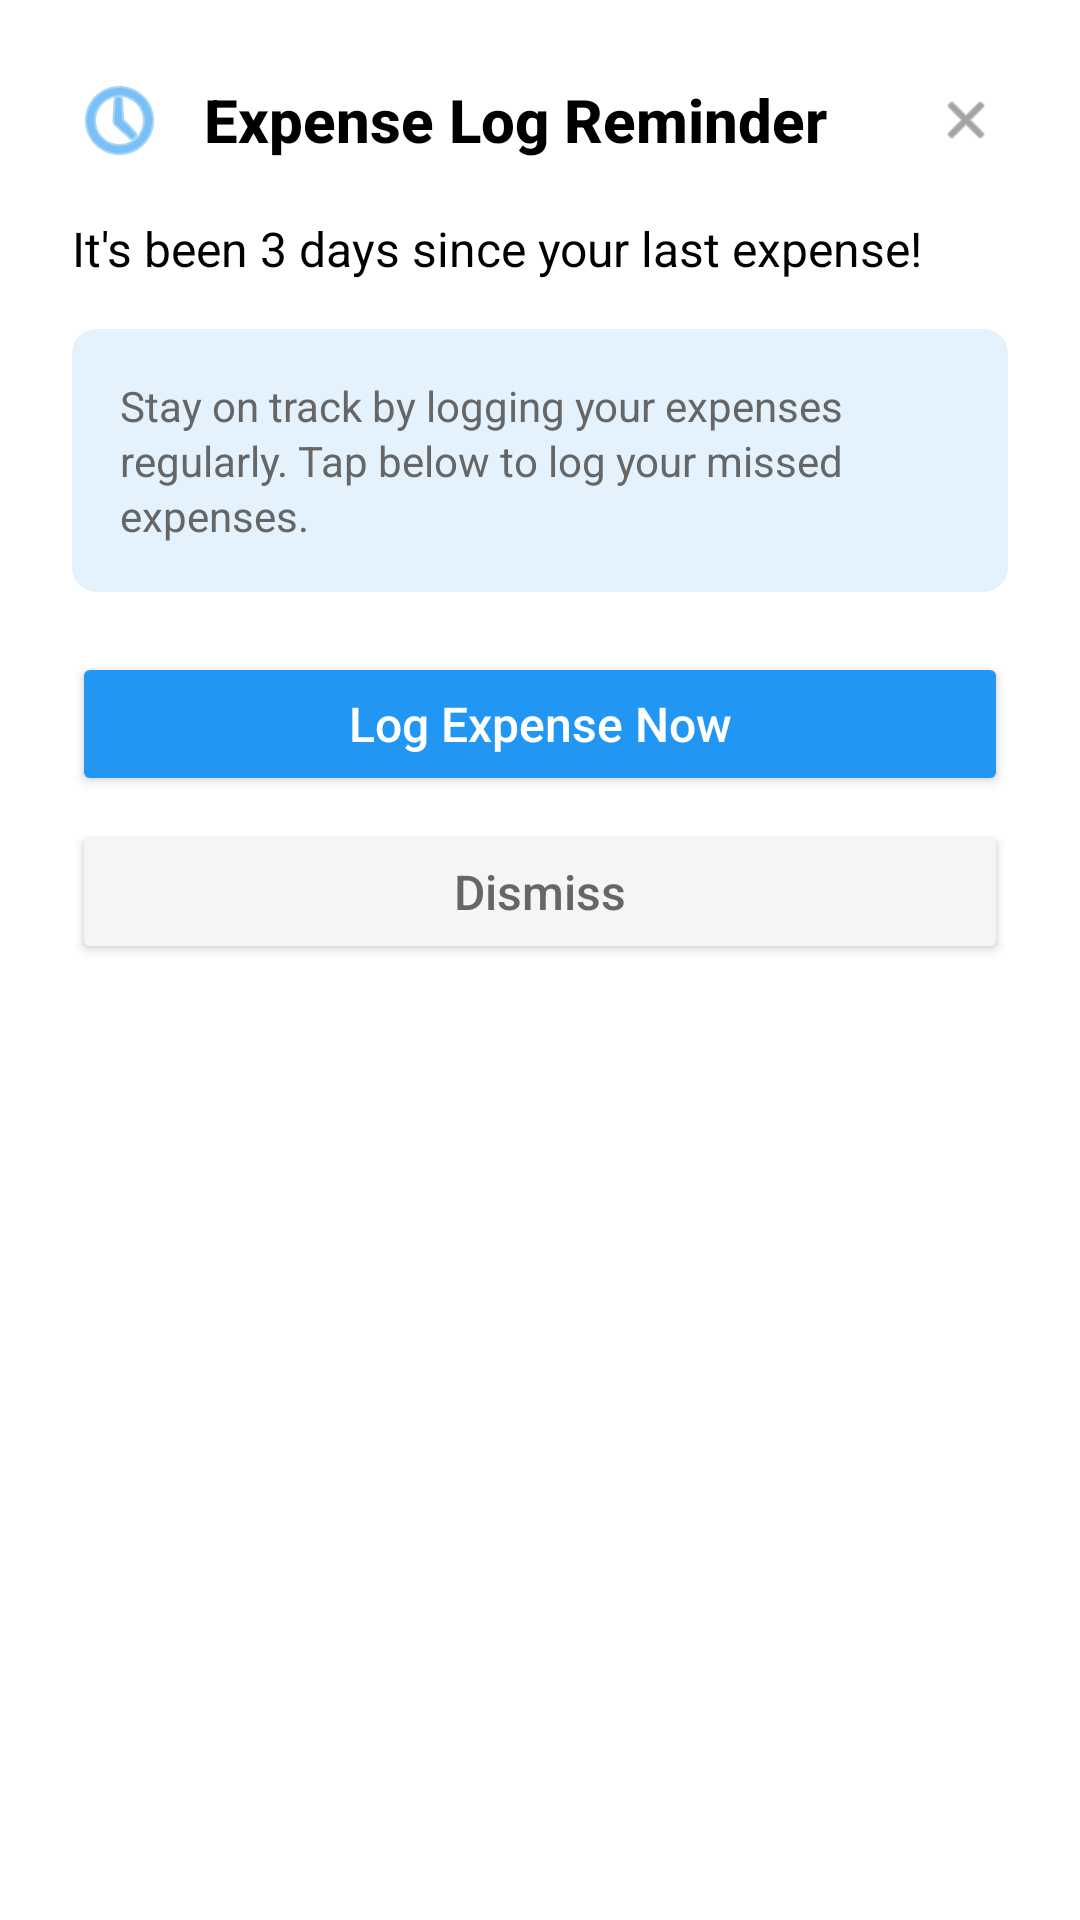

Icons on this 1080px x 1920px Android screen, each with its box as (left=x1, top=y1, right=x2, bottom=y2):
close clear cancel: (left=947, top=101, right=985, bottom=139)
recent history: (left=85, top=86, right=154, bottom=155)
